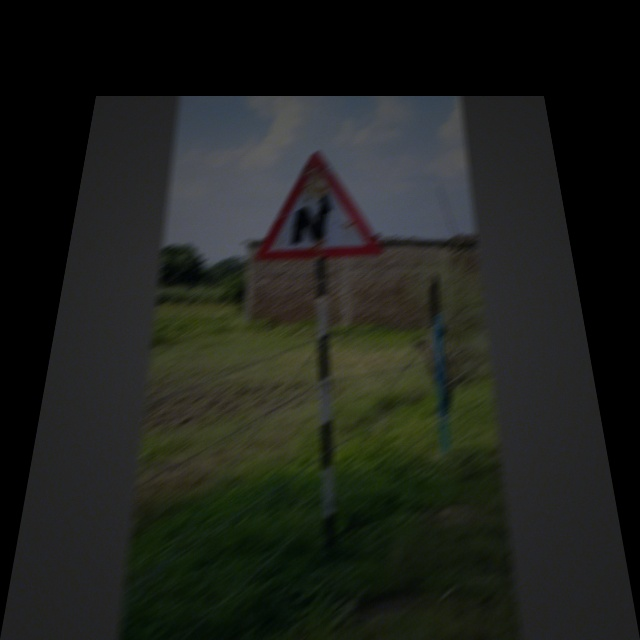Right_Reverse_Bend: (257, 151, 378, 257)
